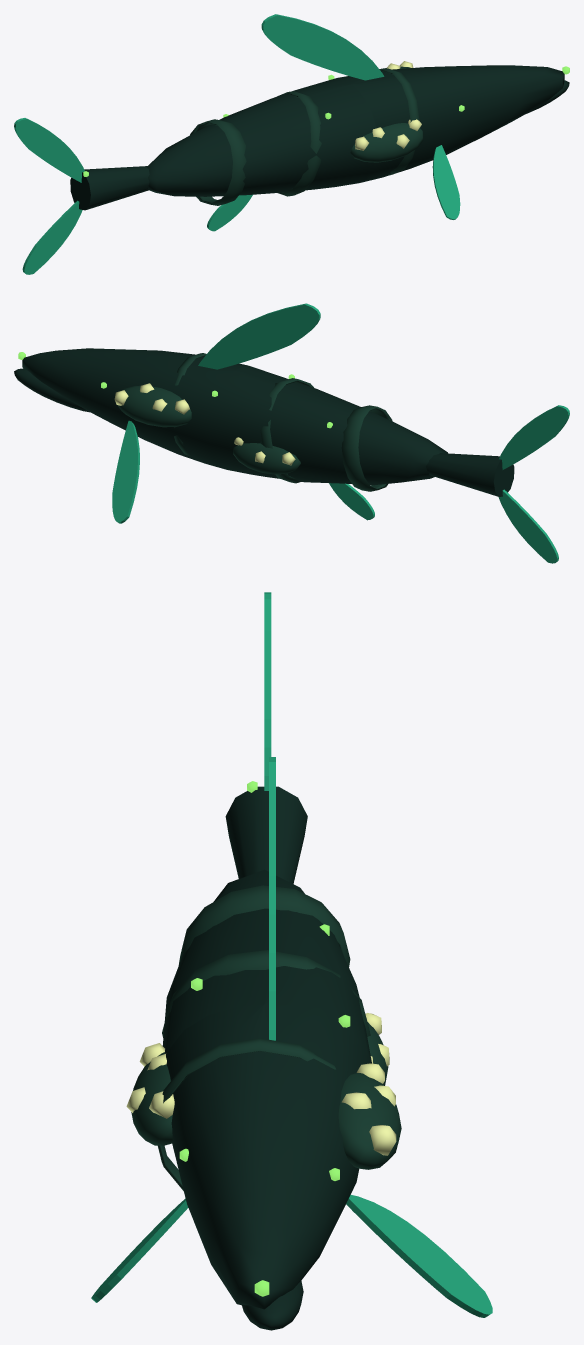
Rendered from corvette-pelagia.glb.
3 renders of one model, top to bottom at view 1: azimuth 30°, elevation 25°; view 2: azimuth 150°, elevation 25°; view 3: azimuth 270°, elevation 25°, orthographic. The views are drawn at different scales.
Parts seen in each view (by area): view 1: hull, dorsal_blade, tail_peduncle, tail_fluke_upper, launcher_starboard_sheath, tail_fluke_lower, growth_ring_1, pectoral_starboard, growth_ring_2, keel_blade, growth_ring_3, launcher_starboard; view 2: hull, dorsal_blade, tail_peduncle, tail_fluke_upper, pectoral_port, launcher_port_fwd_sheath, growth_ring_1, tail_fluke_lower, launcher_port_aft_sheath, jaw_lobe, keel_blade, growth_ring_2 (+2 smaller); view 3: hull, tail_peduncle, pectoral_port, launcher_port_fwd_sheath, growth_ring_1, growth_ring_3, growth_ring_2, launcher_starboard_sheath, dorsal_blade, launcher_port_fwd, pectoral_starboard, jaw_lobe (+2 smaller).
Boxes of the visible parts, box(x1,y1,x2,y2) form: hull: box(147, 65, 564, 196); dorsal_blade: box(261, 14, 384, 80); tail_peduncle: box(70, 166, 150, 210); tail_fluke_upper: box(14, 118, 84, 182); launcher_starboard_sheath: box(350, 123, 423, 162); tail_fluke_lower: box(22, 200, 82, 274); growth_ring_1: box(190, 119, 246, 205); pectoral_starboard: box(432, 145, 460, 219); growth_ring_2: box(277, 91, 321, 196); keel_blade: box(207, 194, 252, 231); growth_ring_3: box(380, 68, 419, 175); launcher_starboard: box(355, 119, 421, 150); hull: box(22, 348, 447, 485); dorsal_blade: box(198, 303, 320, 369); tail_peduncle: box(426, 453, 514, 496); tail_fluke_upper: box(499, 405, 569, 469); pectoral_port: box(112, 420, 139, 523); launcher_port_fwd_sheath: box(117, 385, 191, 427); growth_ring_1: box(341, 405, 392, 491); tail_fluke_lower: box(498, 489, 558, 563); launcher_port_aft_sheath: box(233, 443, 300, 474); jaw_lobe: box(14, 368, 89, 412); keel_blade: box(329, 483, 374, 520); growth_ring_2: box(260, 378, 313, 483); hull: box(162, 869, 371, 1309); tail_peduncle: box(225, 786, 307, 883); pectoral_port: box(346, 1195, 492, 1317); launcher_port_fwd_sheath: box(338, 1073, 401, 1169); growth_ring_1: box(178, 885, 350, 966); growth_ring_3: box(158, 1038, 335, 1190); growth_ring_2: box(162, 950, 370, 1037); launcher_starboard_sheath: box(131, 1052, 172, 1145); dorsal_blade: box(269, 757, 275, 1040); launcher_port_fwd: box(341, 1063, 396, 1155); pectoral_starboard: box(91, 1198, 188, 1302); jaw_lobe: box(242, 1281, 303, 1330).
Size of the model in its own units: 78.39 by 28.73 by 24.6.
